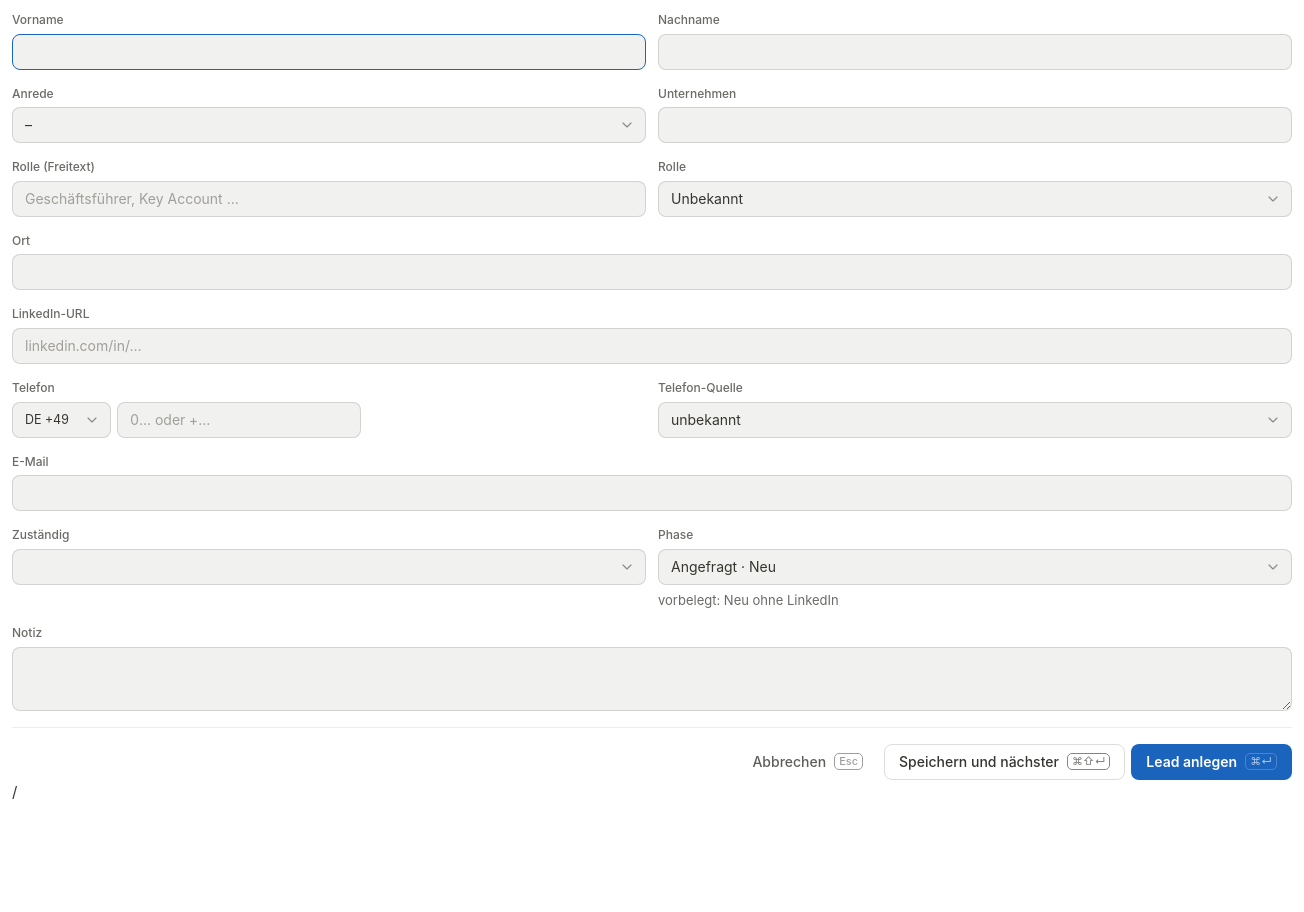
Scenario: LeadForm › Pflichtfelder Vorname/Nachname: ohne sie wird nichts angelegt
The image size is (1304, 912).
Click the button "Lead anlegen ⌘↵": (1212, 762) [1131,744,1292,780]
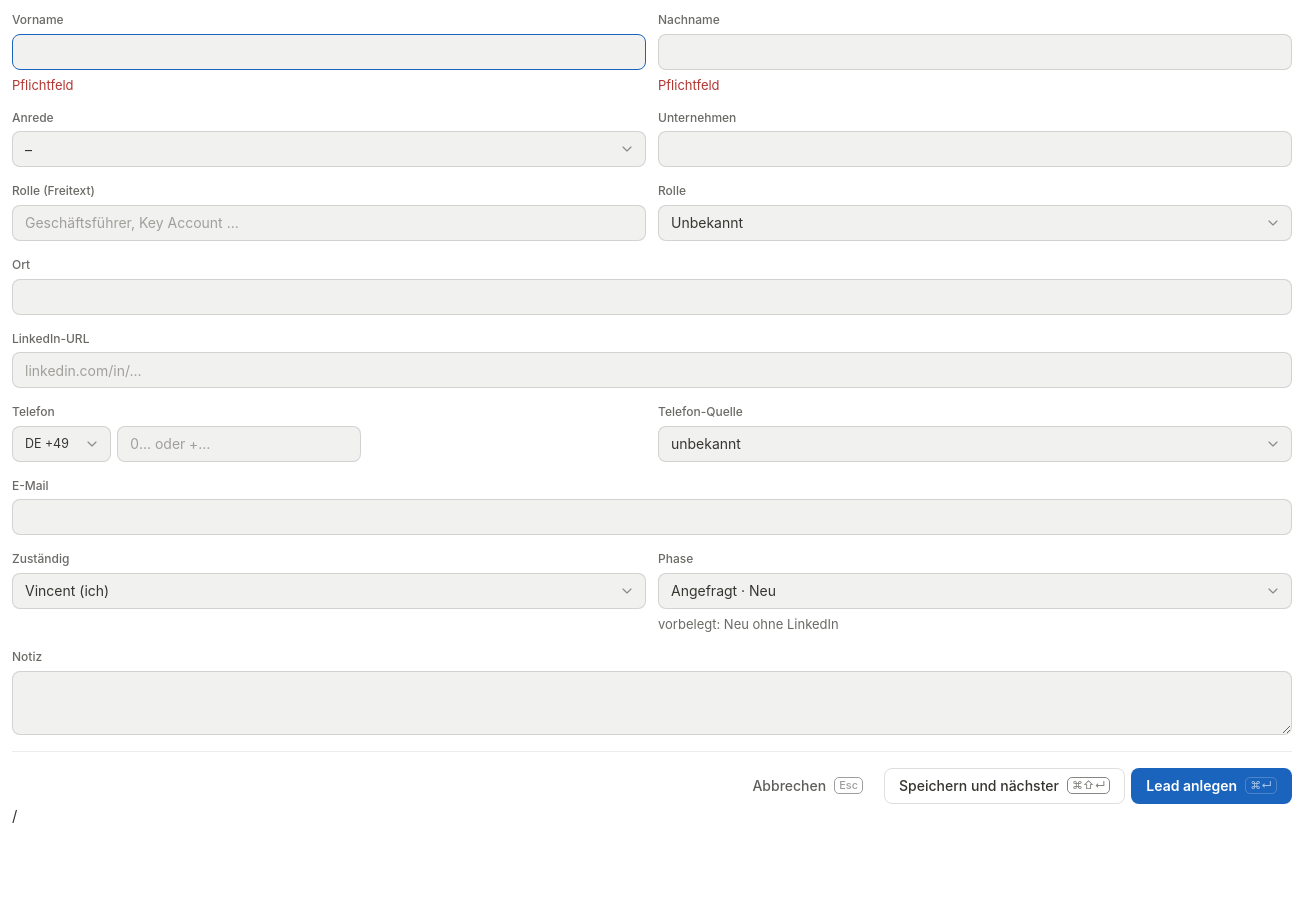
Check: the text "Pflichtfeld" is shown 2 times, box [12,77,74,93]; [658,77,720,93]
